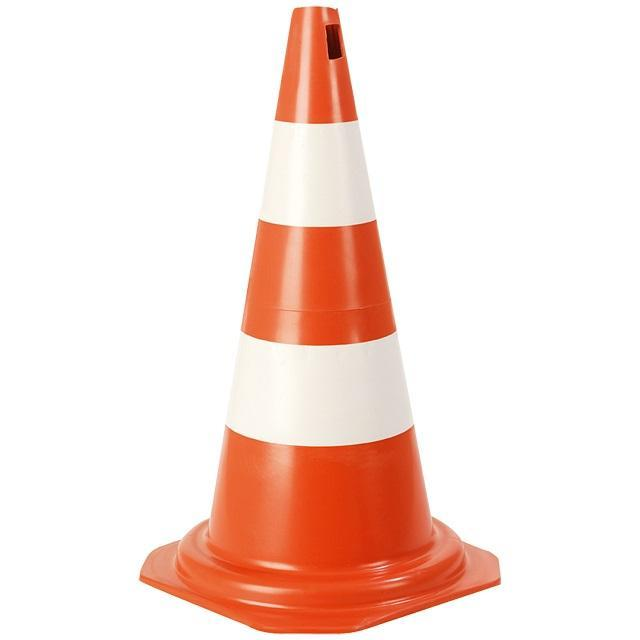cone: (140, 0, 529, 640)
